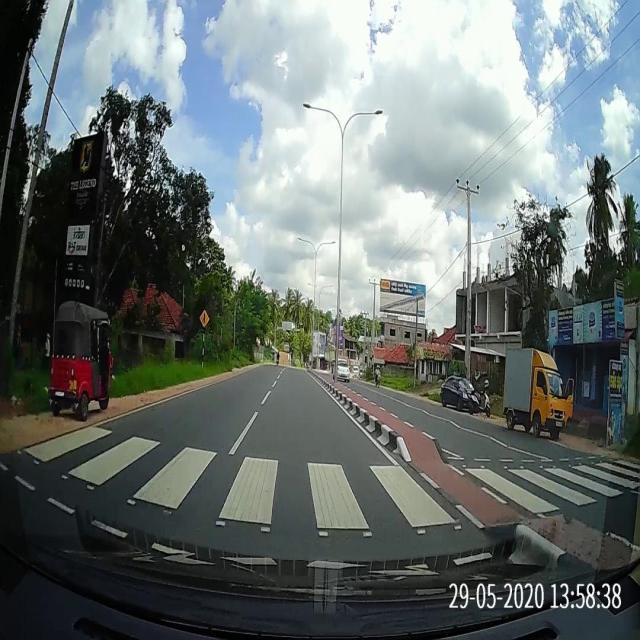Crosswalk: (0, 420, 639, 575)
